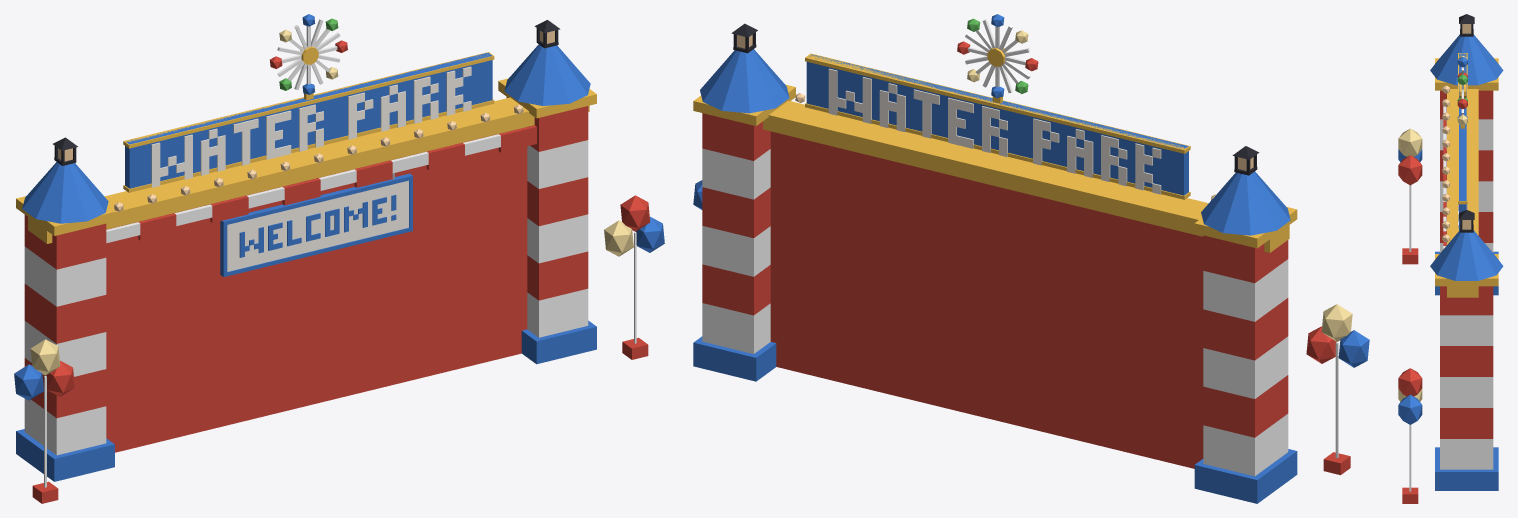
File: CatCafe_WaterPark_Gate.glb
3 renders of one model, left to right at view 1: azimuth 30°, elevation 25°; view 2: azimuth 150°, elevation 25°; view 3: azimuth 270°, elevation 25°, orthographic. The views are drawn at different scales.
Parts seen in each view (by area): view 1: CatCafe_WaterPark_Gate, CatCafe_WaterPark_Gate_Bars, CatCafe_WaterPark_Gate_SignBoard, CatCafe_WaterPark_Gate_Lamp_Bulb; view 2: CatCafe_WaterPark_Gate_Bars, CatCafe_WaterPark_Gate; view 3: CatCafe_WaterPark_Gate, CatCafe_WaterPark_Gate_Lamp_Bulb.
Part boxes in pixels (x1,y1,x2,y2): CatCafe_WaterPark_Gate: (14, 14, 664, 503); CatCafe_WaterPark_Gate_Bars: (106, 127, 527, 452); CatCafe_WaterPark_Gate_SignBoard: (227, 180, 408, 271); CatCafe_WaterPark_Gate_Lamp_Bulb: (58, 30, 554, 211); CatCafe_WaterPark_Gate_Bars: (770, 131, 1203, 468); CatCafe_WaterPark_Gate: (693, 14, 1369, 503); CatCafe_WaterPark_Gate: (1398, 14, 1503, 503); CatCafe_WaterPark_Gate_Lamp_Bulb: (1442, 24, 1471, 250).
Bounding box in the file's own units: 35.53 × 20.44 × 6.01.
Materials: 1 (1 with a texture image).
